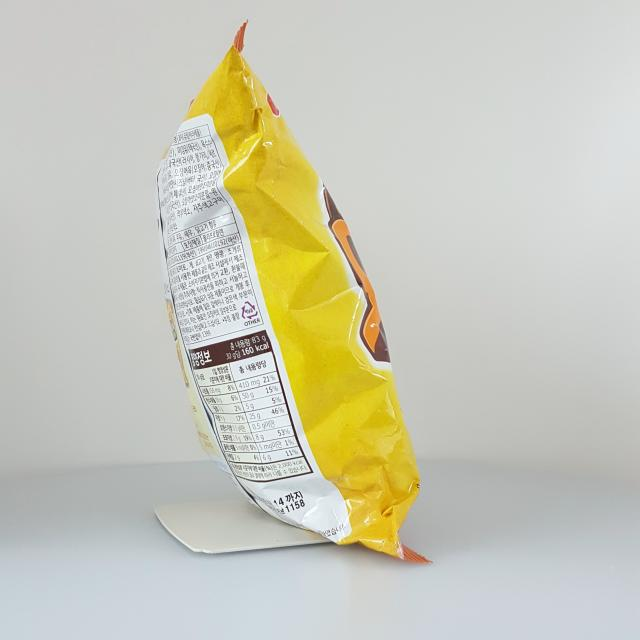-83G: (158, 21, 435, 564)
